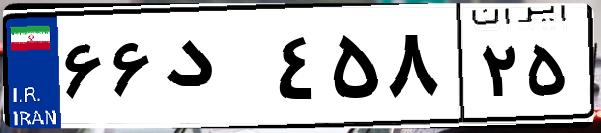2: (475, 38, 525, 113)
4: (270, 28, 330, 110)
5: (330, 28, 385, 110), (525, 38, 570, 115)
6: (57, 26, 110, 100), (110, 28, 158, 98)
8: (385, 28, 445, 110)
د: (158, 20, 270, 120)
